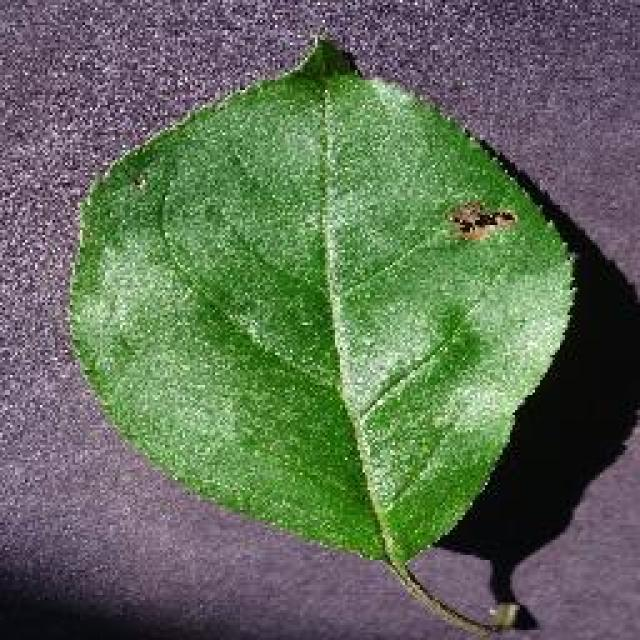Black_rot: (65, 32, 577, 632)
